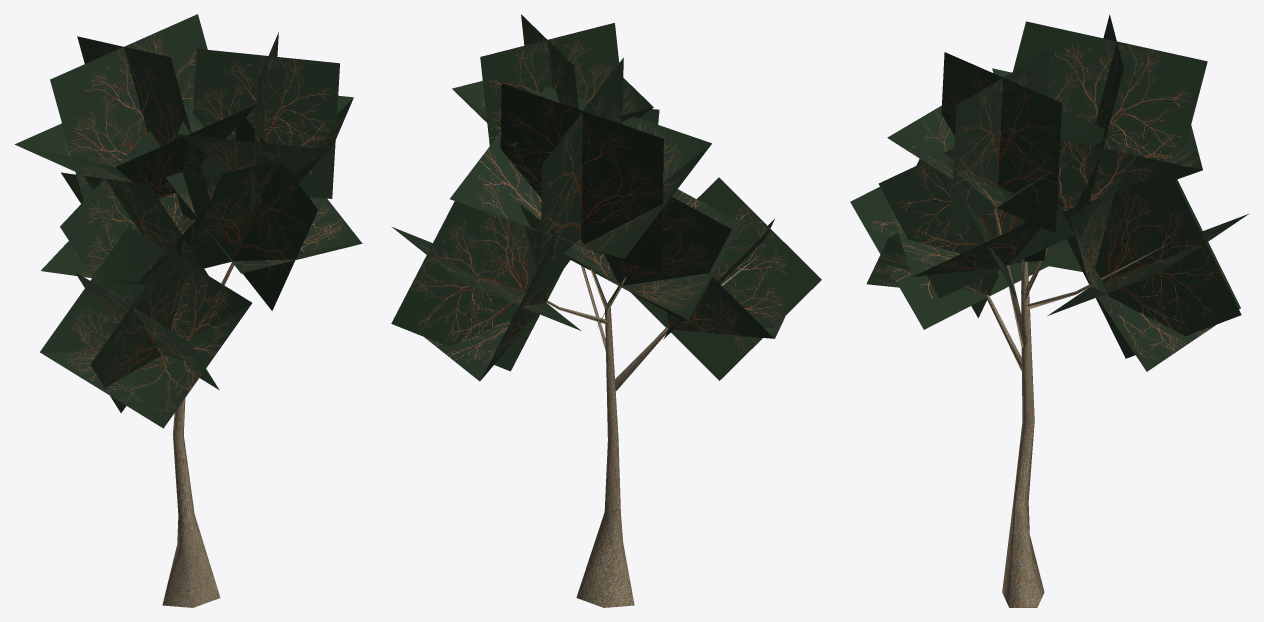
The model's file is decd_mapletreebranches_l1.fbx.
3 renders of one model, left to right at view 1: azimuth 30°, elevation 25°; view 2: azimuth 150°, elevation 25°; view 3: azimuth 270°, elevation 25°, orthographic. The views are drawn at different scales.
Visible parts, largest first — view 1: mesh_node; view 2: mesh_node; view 3: mesh_node.
Boxes of the visible parts, x1,y1,x2,y2 form: mesh_node: [14, 14, 362, 607]; mesh_node: [391, 14, 821, 607]; mesh_node: [850, 14, 1249, 607].
Size of the model in its own units: 10.07 by 16.47 by 10.56.
